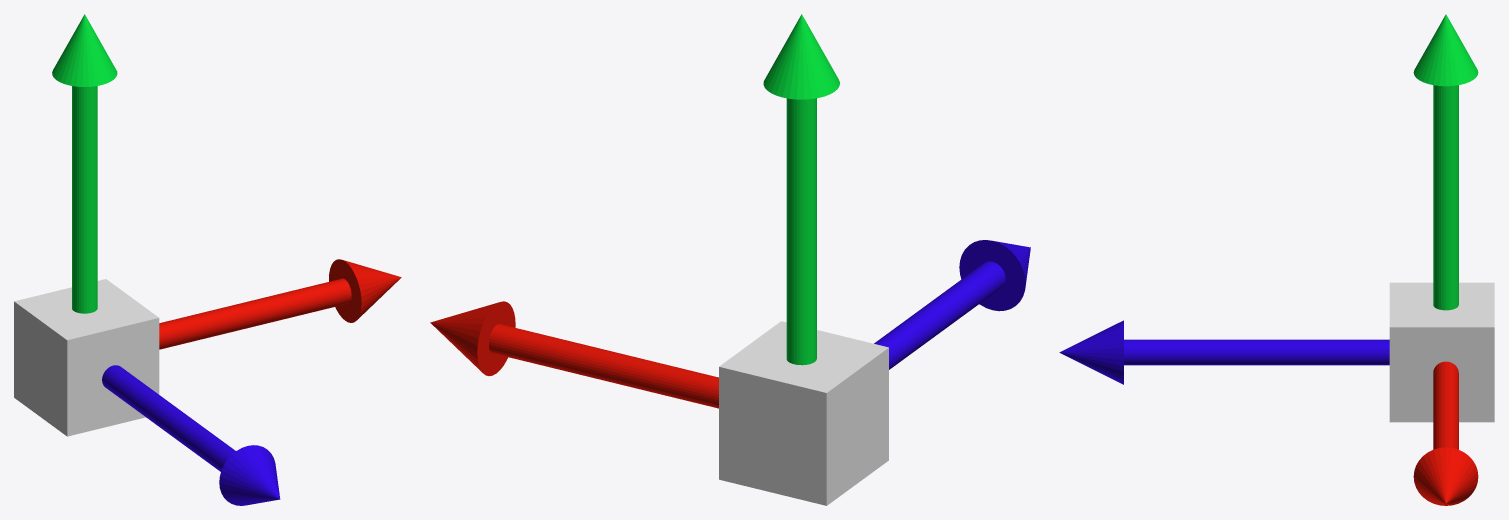
The model's file is gizmo.glb.
The picture shows the model from 3 angles, left to right: view 1: azimuth 30°, elevation 25°; view 2: azimuth 150°, elevation 25°; view 3: azimuth 270°, elevation 25°; orthographic projection. The views are drawn at different scales.
Visible parts, largest first — view 1: Gizmo, y, x, z; view 2: Gizmo, y, x, z; view 3: Gizmo, z, y, x.
Boxes of the visible parts, x1,y1,x2,y2 form: Gizmo: [14, 279, 159, 436]; y: [52, 14, 117, 313]; x: [159, 259, 401, 349]; z: [102, 365, 280, 505]; Gizmo: [719, 321, 888, 505]; y: [763, 14, 839, 365]; x: [430, 301, 718, 408]; z: [874, 240, 1030, 369]; Gizmo: [1389, 282, 1494, 422]; z: [1059, 320, 1389, 384]; y: [1413, 14, 1478, 310]; x: [1413, 361, 1478, 505].
Bounding box in the file's own units: 0.9707 × 0.9974 × 1.02.
